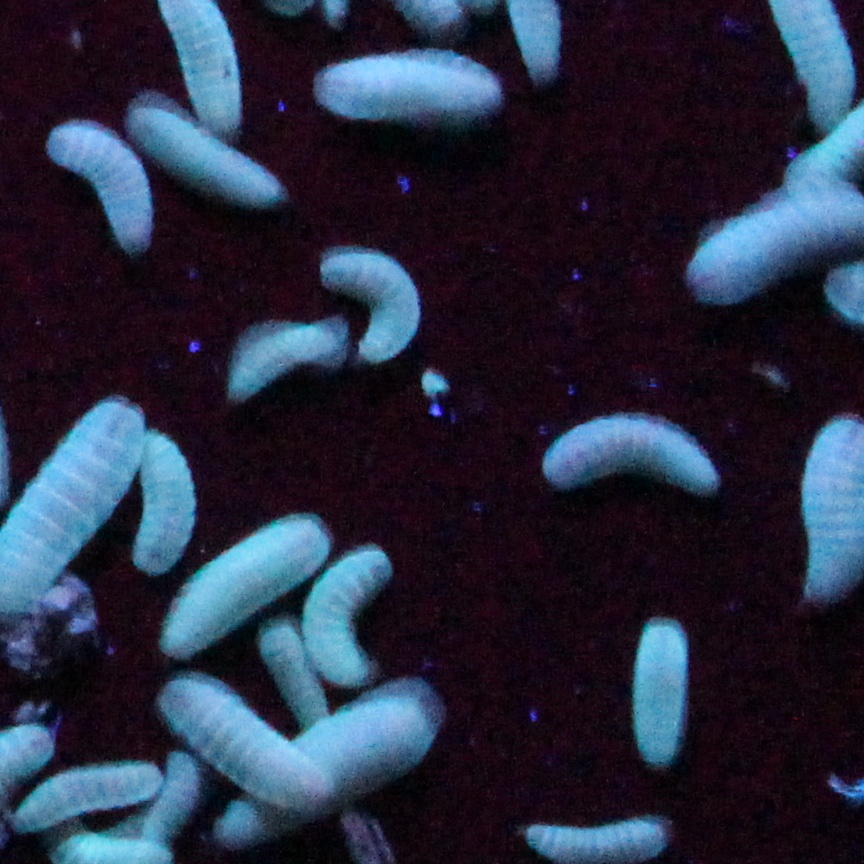larve: (221, 682, 423, 834), (149, 517, 306, 660), (166, 680, 332, 814), (534, 420, 742, 520), (121, 102, 289, 211), (41, 125, 169, 251), (321, 245, 429, 362), (218, 328, 346, 400), (321, 551, 392, 677), (321, 60, 501, 108), (135, 437, 198, 574), (9, 768, 155, 825), (522, 816, 690, 860), (630, 620, 674, 756)
